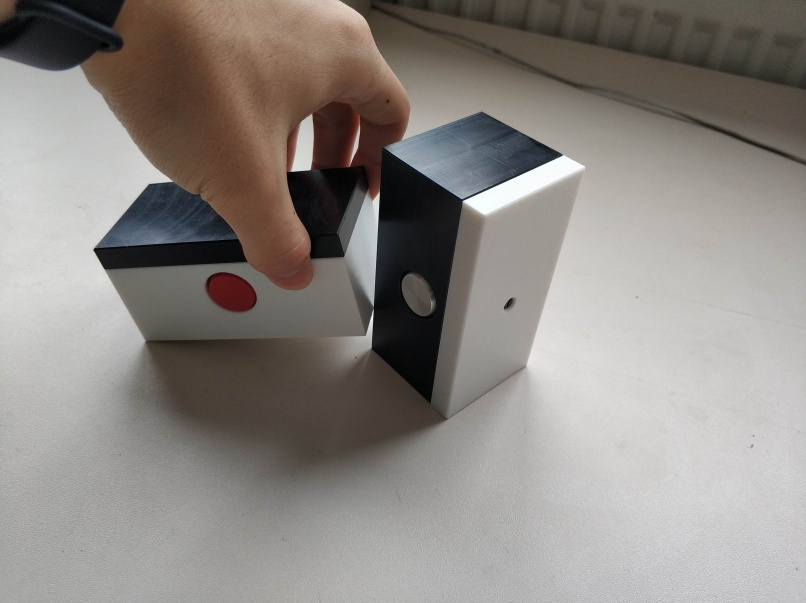black+white+red: (90, 164, 375, 345)
white+black+silver: (370, 112, 588, 422)
